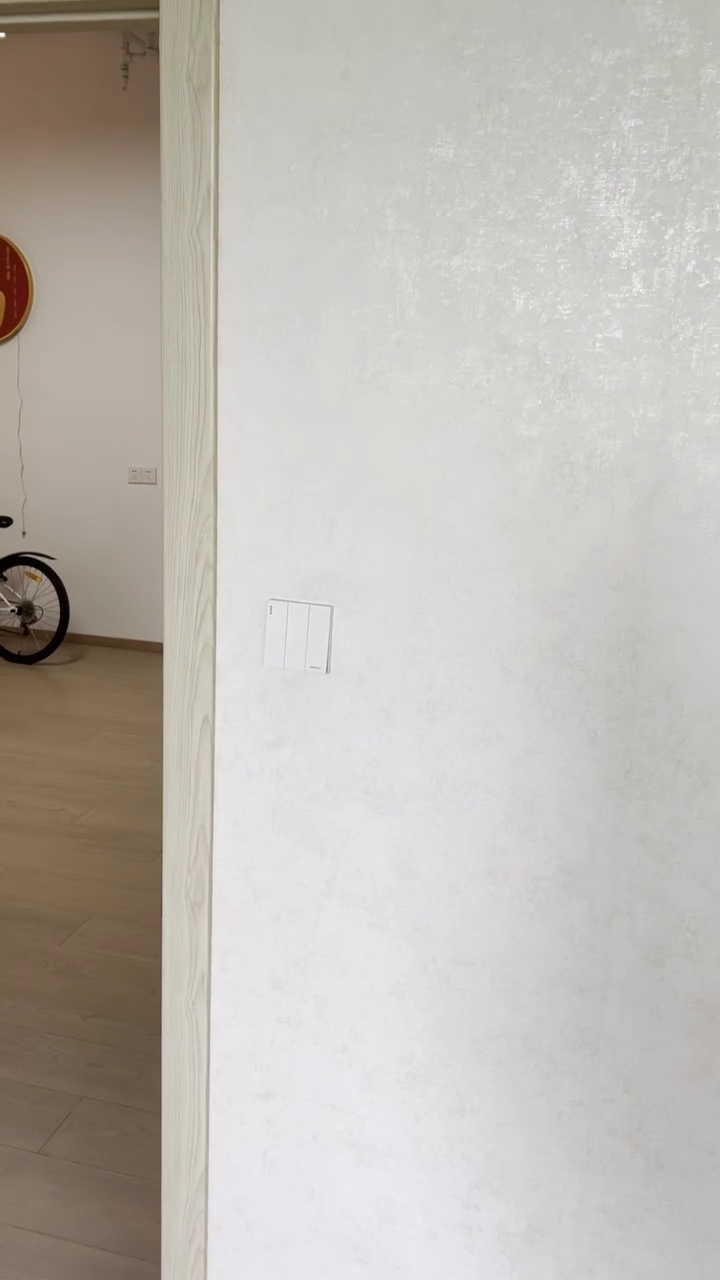button: (258, 598, 337, 676)
